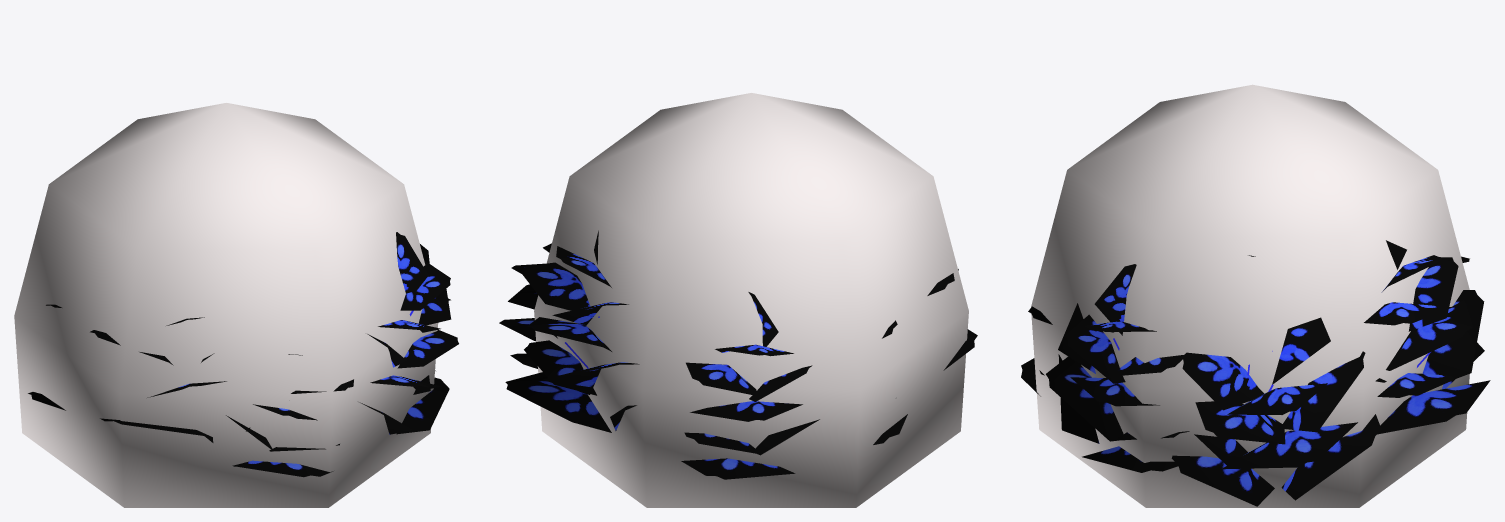
The model's file is Homeworld_Exterior_Xm_Plant_Grass_Common_04_Lod0.fbx.
3 renders of one model, left to right at view 1: azimuth 30°, elevation 25°; view 2: azimuth 150°, elevation 25°; view 3: azimuth 270°, elevation 25°, orthographic. The views are drawn at different scales.
Parts seen in each view (by area): view 1: EffectMesh, Area_Xm_Grass_Common_Xyc_01_Lod0; view 2: EffectMesh, Area_Xm_Grass_Common_Xyc_01_Lod0; view 3: EffectMesh, Area_Xm_Grass_Common_Xyc_01_Lod0.
Boxes of the visible parts, x1,y1,x2,y2 form: EffectMesh: [14, 103, 438, 507]; Area_Xm_Grass_Common_Xyc_01_Lod0: [28, 232, 458, 477]; EffectMesh: [534, 93, 968, 507]; Area_Xm_Grass_Common_Xyc_01_Lod0: [499, 230, 977, 479]; EffectMesh: [1031, 84, 1469, 507]; Area_Xm_Grass_Common_Xyc_01_Lod0: [1021, 240, 1490, 506].
Bounding box in the file's own units: 2.64 × 2.49 × 2.63.
Materials: 2 (1 with a texture image).
